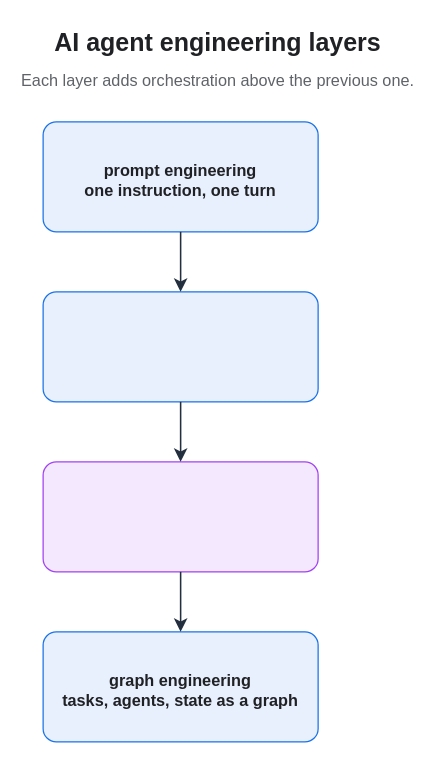
This 436x764 diagram has some shape labels left out. The box of each missing label's shape, as (x1, y1, x2, y2) in pixels:
context engineering curate what the model sees: (42, 291, 318, 402)
loop engineering a system prompts the agent: (42, 461, 318, 572)
